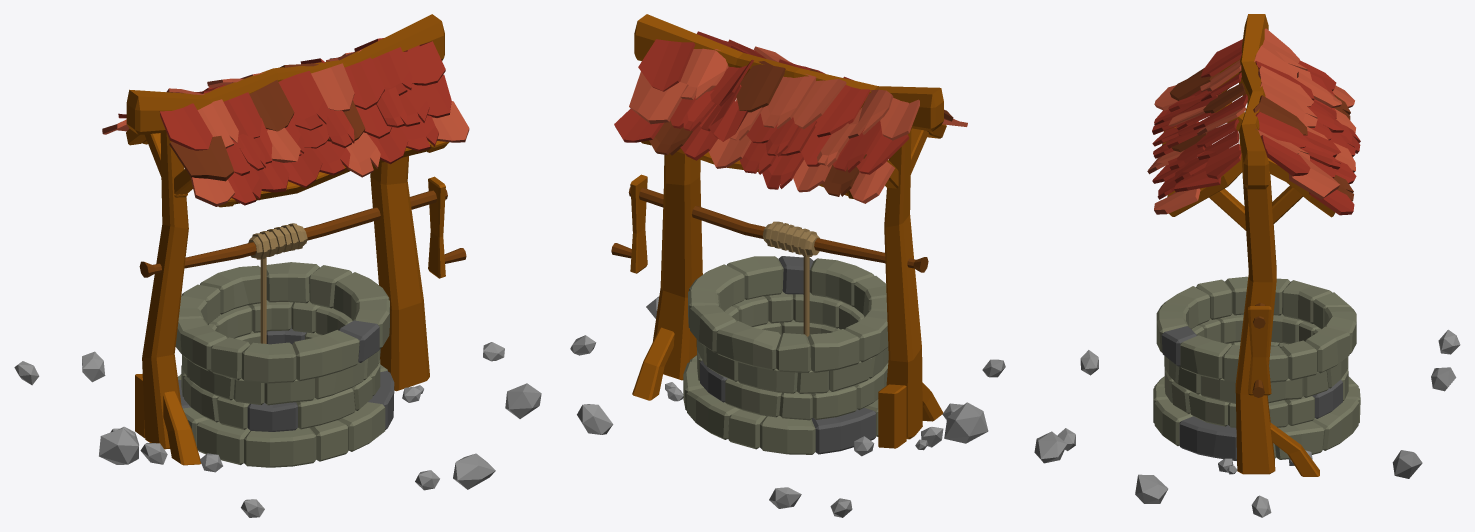
File: Well.fbx
3 renders of one model, left to right at view 1: azimuth 30°, elevation 25°; view 2: azimuth 150°, elevation 25°; view 3: azimuth 270°, elevation 25°, orthographic. The views are drawn at different scales.
Parts seen in each view (by area): view 1: Plane.001; view 2: Plane.001; view 3: Plane.001.
Boxes of the visible parts, x1,y1,x2,y2 form: Plane.001: (14,14,541,517); Plane.001: (570,14,1005,517); Plane.001: (1034,14,1460,517).
Size of the model in its own units: 2970 by 2535 by 2794.
